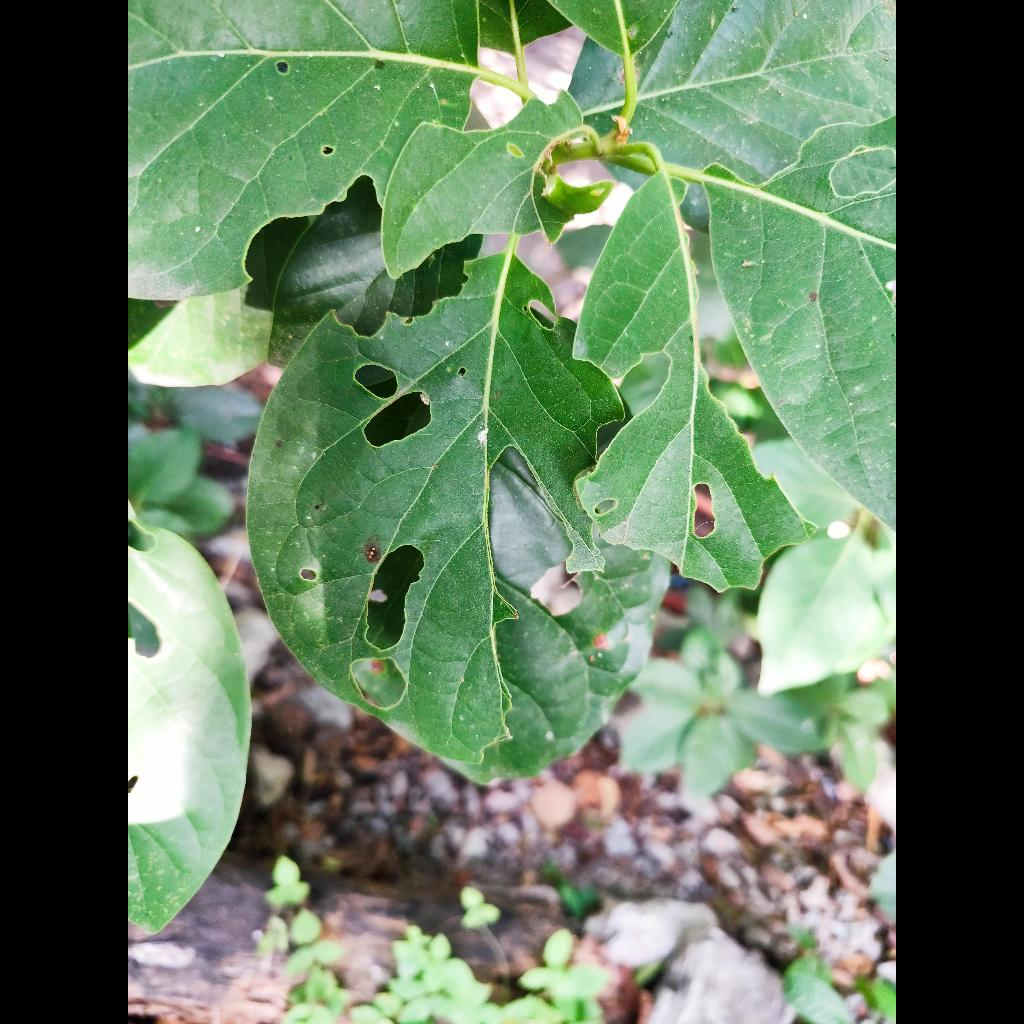Pest Infested: (248, 254, 620, 761), (128, 0, 487, 300), (574, 165, 809, 590)
